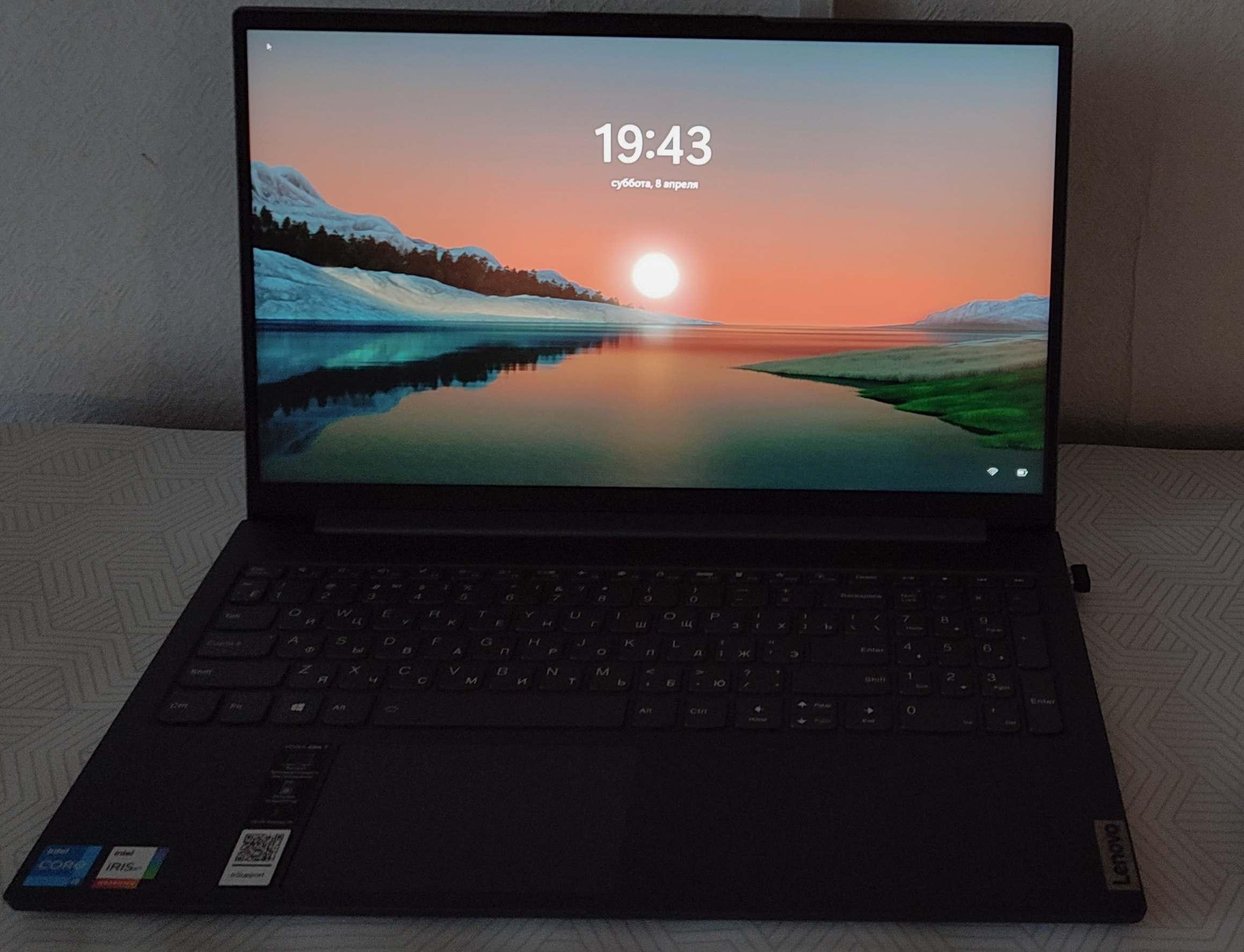monitor: (231, 0, 1079, 536)
